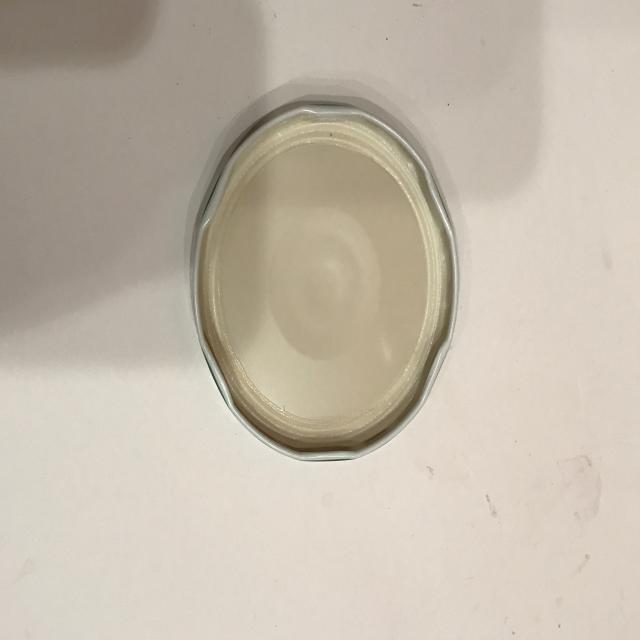metal: (192, 102, 460, 460)
